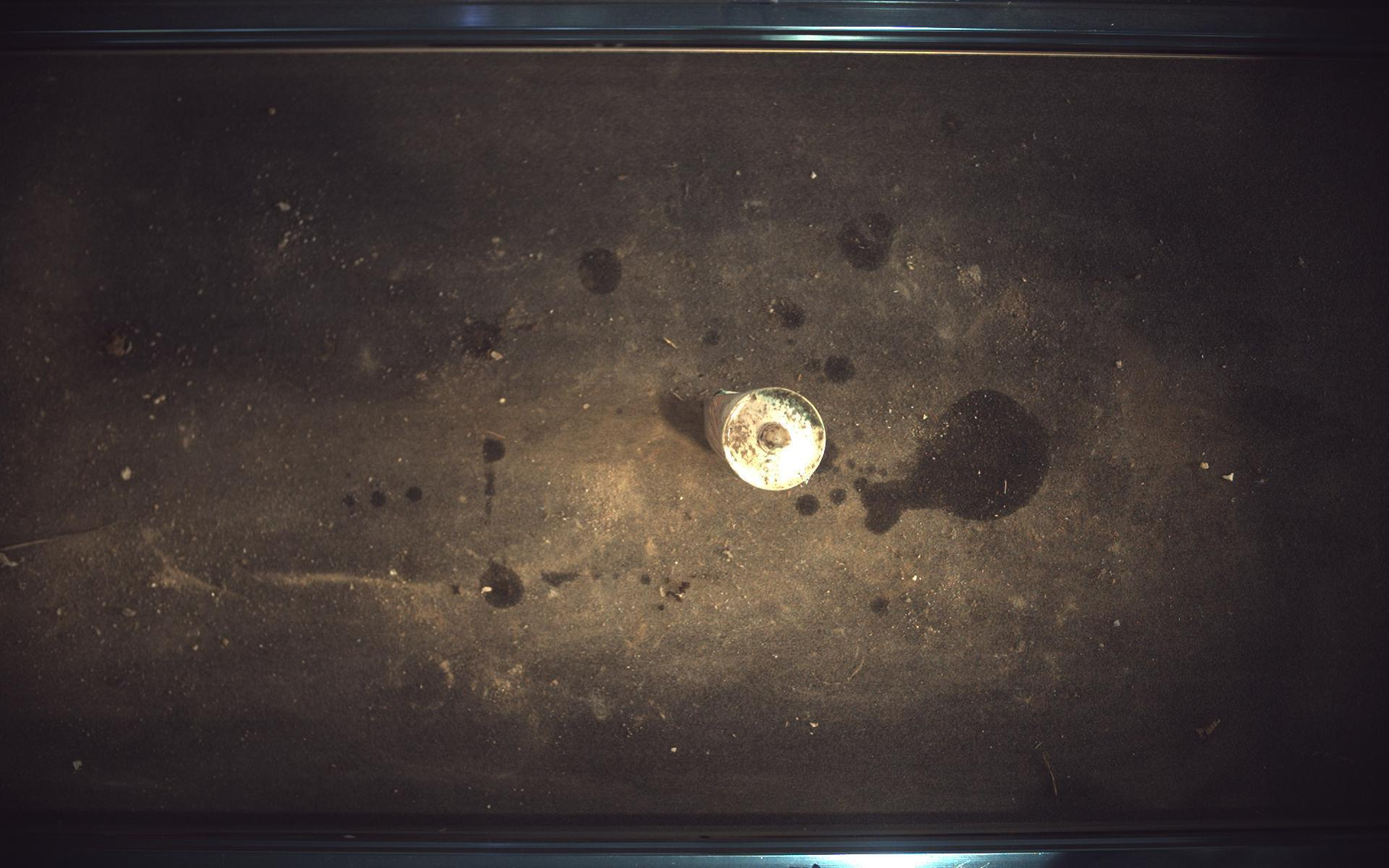plastic: (705, 387, 828, 491)
